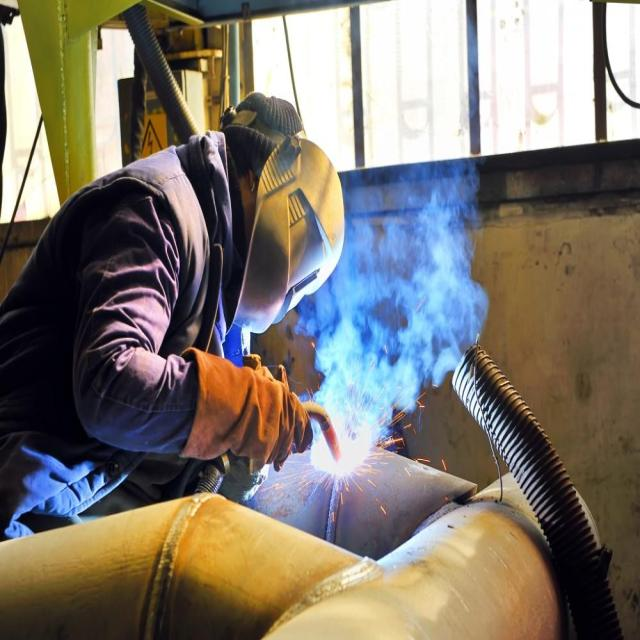welding: (314, 432, 362, 476)
